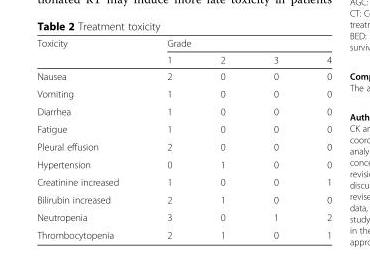table: (36, 37, 331, 240)
table column: (36, 37, 142, 240), (248, 37, 302, 240), (142, 37, 195, 240), (195, 37, 248, 240), (302, 37, 331, 240)
table column header: (36, 37, 331, 67)
table row: (36, 84, 331, 102), (36, 119, 331, 137), (36, 137, 331, 155), (36, 172, 331, 190), (36, 190, 331, 208), (36, 67, 331, 84), (36, 102, 331, 119), (36, 155, 331, 172), (36, 208, 331, 225), (36, 51, 331, 67), (36, 225, 331, 240), (36, 37, 331, 51)
table spanning cell: (36, 37, 142, 67), (142, 37, 331, 51)
